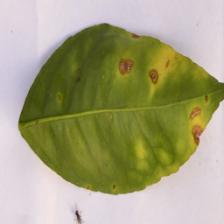canker: (116, 36, 198, 155)
